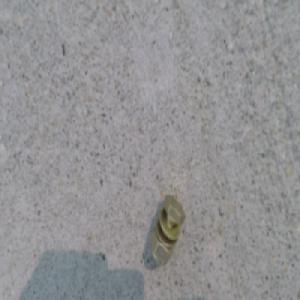BoltNutSet: (142, 190, 176, 262)
